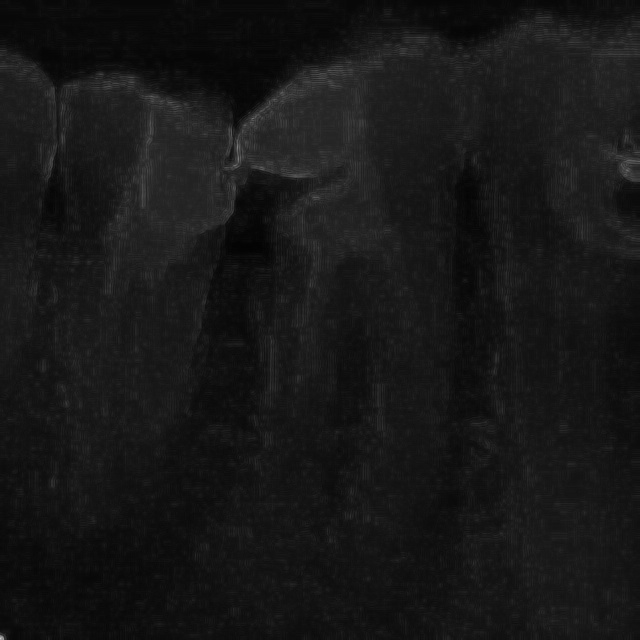Class 1- complete endodontic treatment: (220, 23, 472, 563), (29, 40, 242, 525)
